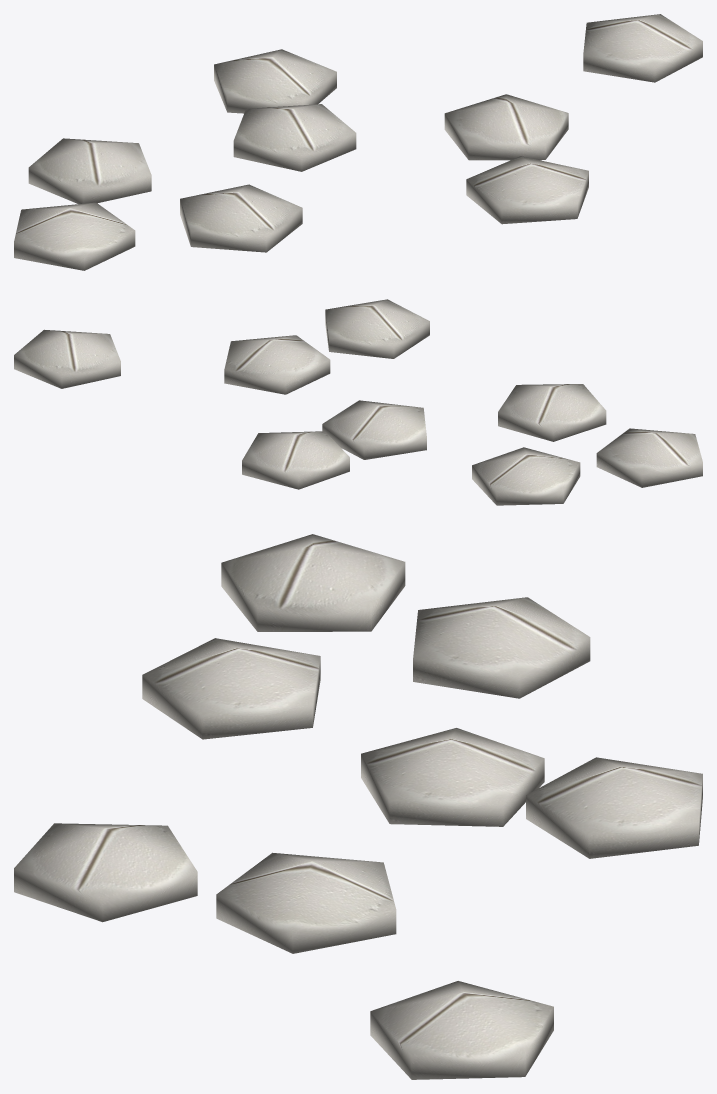
Rendered from Pill_RoundedBundle.fbx.
3 renders of one model, top to bottom at view 1: azimuth 30°, elevation 25°; view 2: azimuth 150°, elevation 25°; view 3: azimuth 270°, elevation 25°, orthographic. The views are drawn at different scales.
Visible parts, largest first — view 1: PillsBundle.002; view 2: PillsBundle.002; view 3: PillsBundle.002.
Boxes of the visible parts, bbox=[...] form: PillsBundle.002: bbox=[14, 14, 702, 270]; PillsBundle.002: bbox=[14, 299, 702, 505]; PillsBundle.002: bbox=[14, 534, 702, 1079].
Bounding box in the file's own units: 279 × 20.27 × 156.
